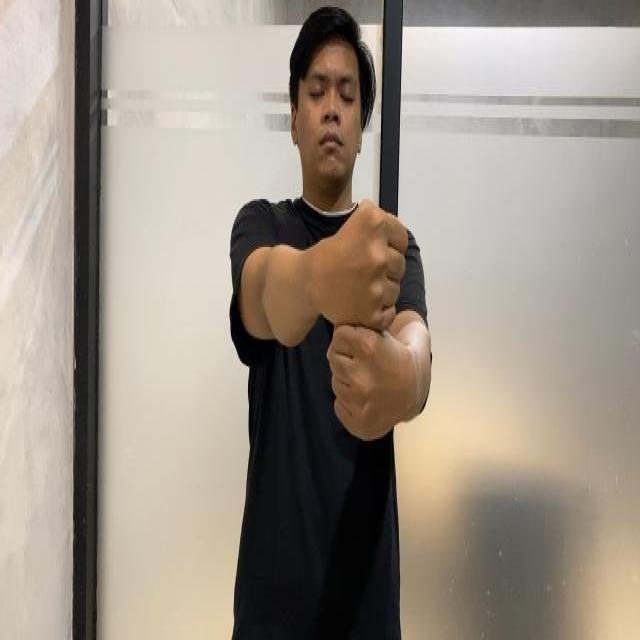G: (314, 182, 430, 456)
